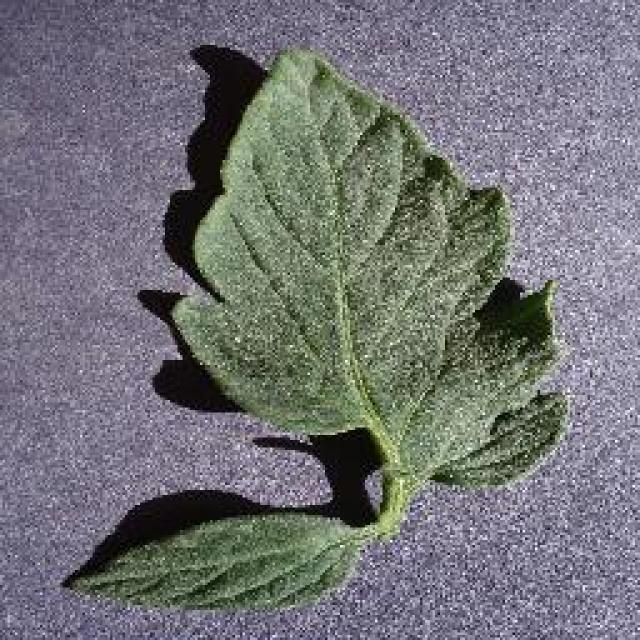Healthy: (47, 30, 585, 625)
